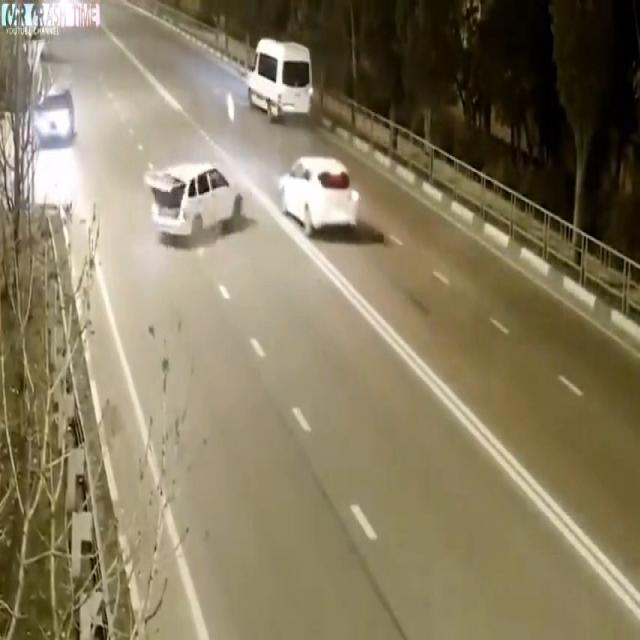Accident: (140, 124, 264, 284)
